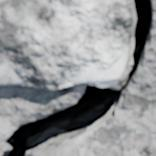brick: (0, 0, 132, 89)
broken_brick: (28, 132, 155, 155), (0, 137, 9, 155)
crack: (2, 0, 153, 155)
